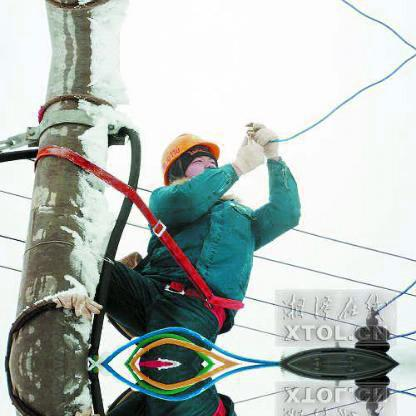Helmet: (156, 120, 230, 195)
